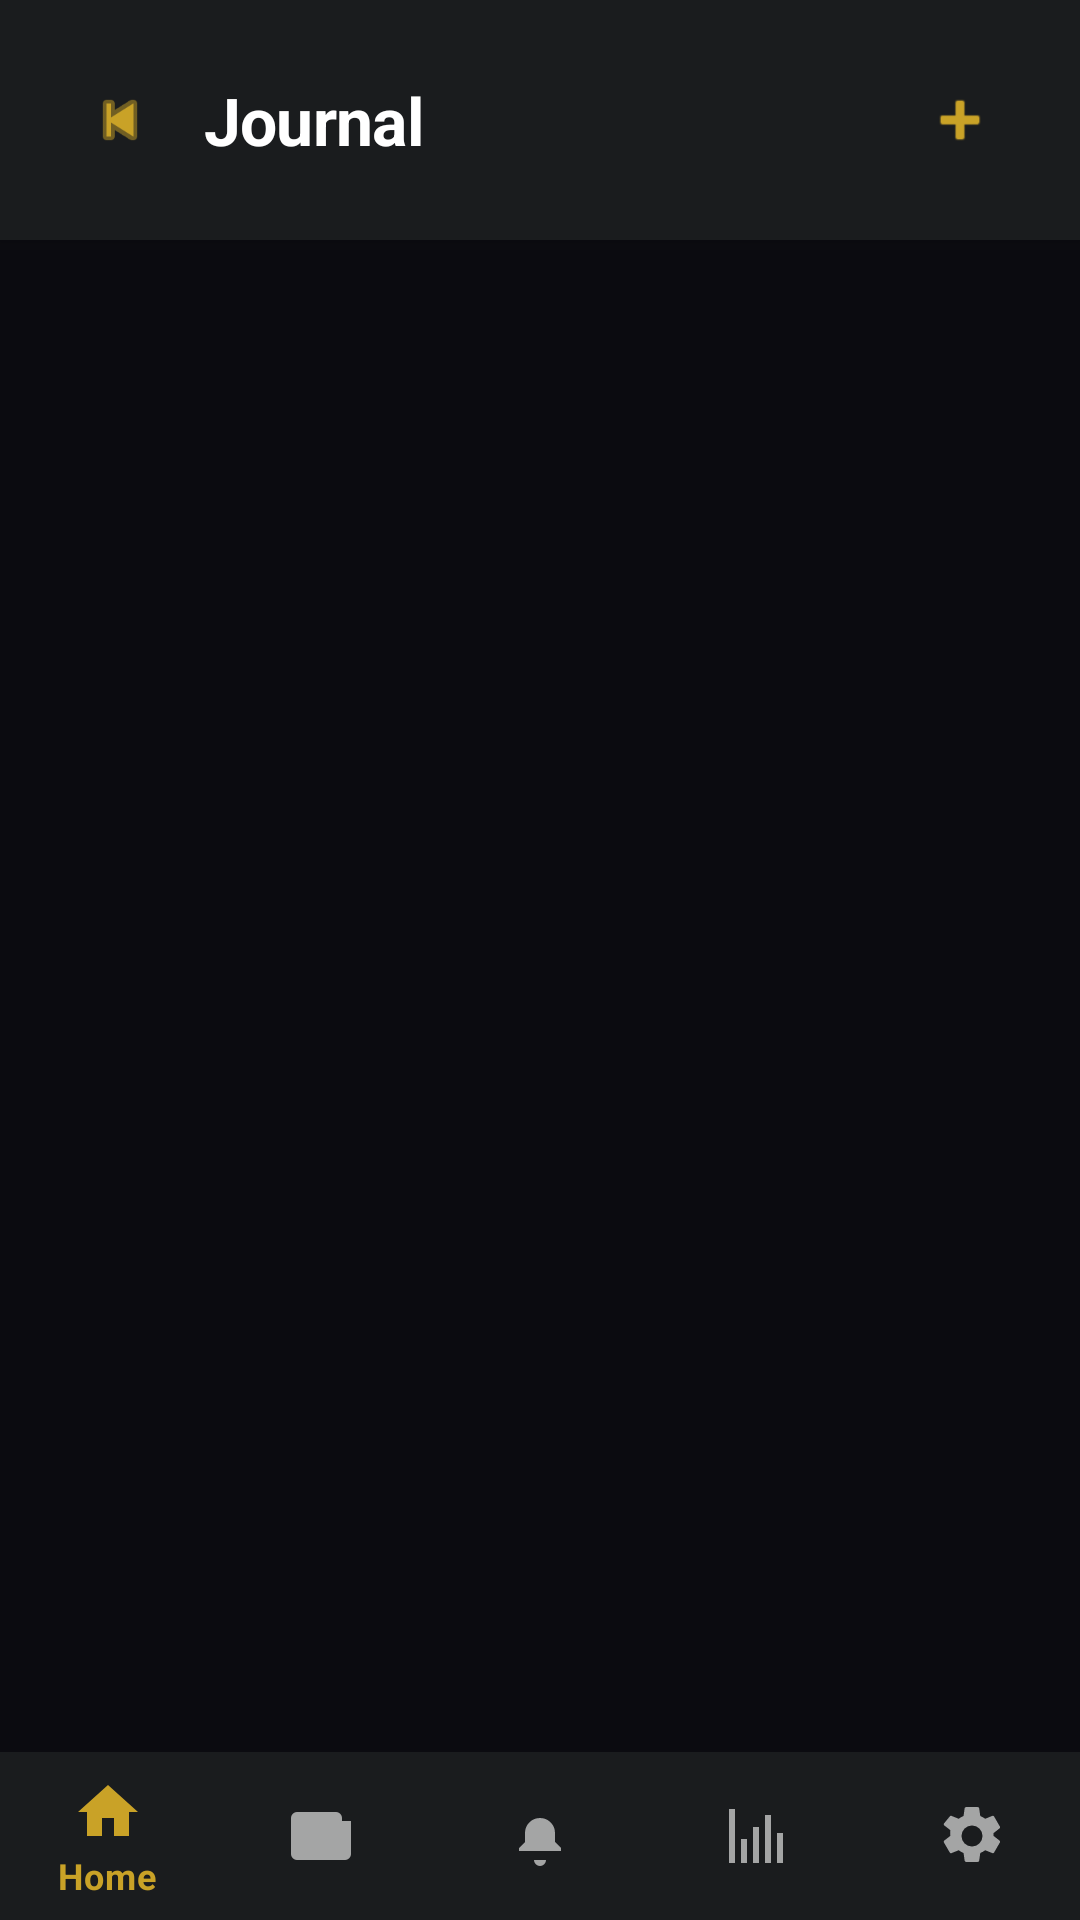

Named icons in this screenshot (1080w x 1920h) and their centers, [x,y]:
Add: [960,120]
Back: [120,120]
